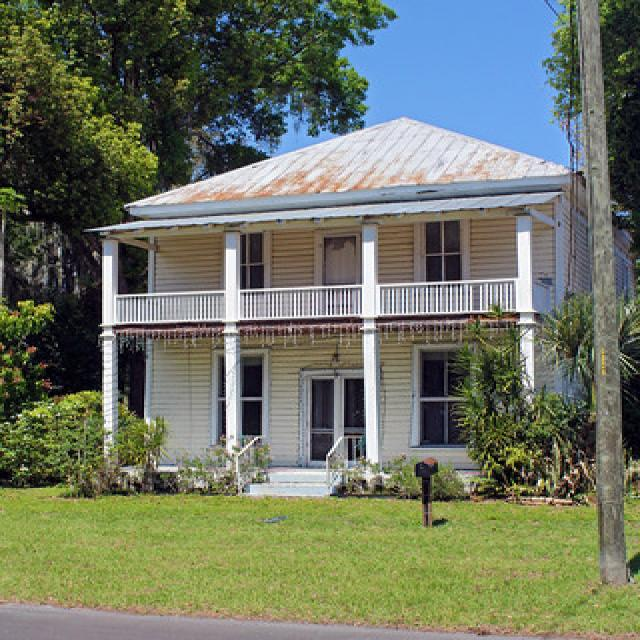Normal_building: (74, 117, 628, 499)
